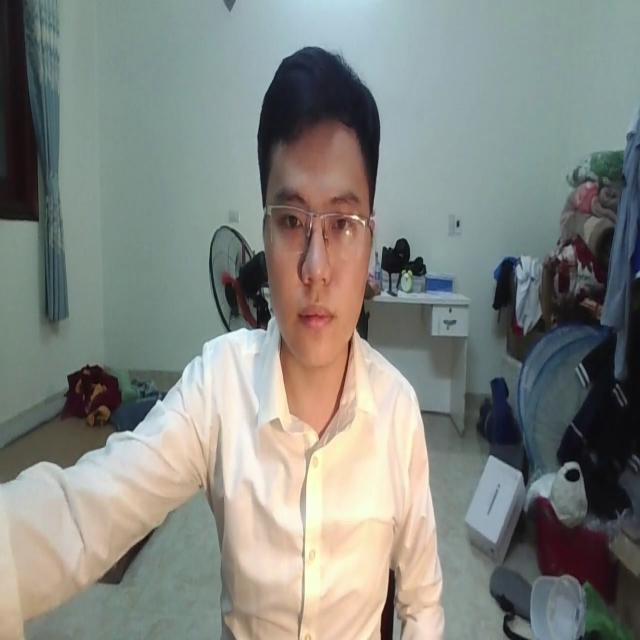student: (0, 42, 446, 640)
